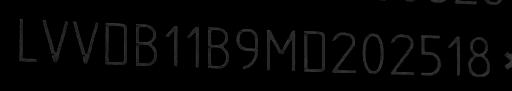letter: (262, 24, 300, 73), (39, 14, 71, 65), (466, 30, 496, 83), (130, 19, 162, 68), (70, 18, 102, 65), (300, 27, 332, 74), (358, 28, 390, 75), (15, 15, 43, 66), (102, 17, 130, 68), (204, 23, 234, 70), (233, 24, 263, 71), (330, 26, 358, 75), (418, 30, 446, 79), (388, 32, 418, 77), (160, 23, 186, 70), (445, 29, 467, 78), (185, 23, 205, 72)
